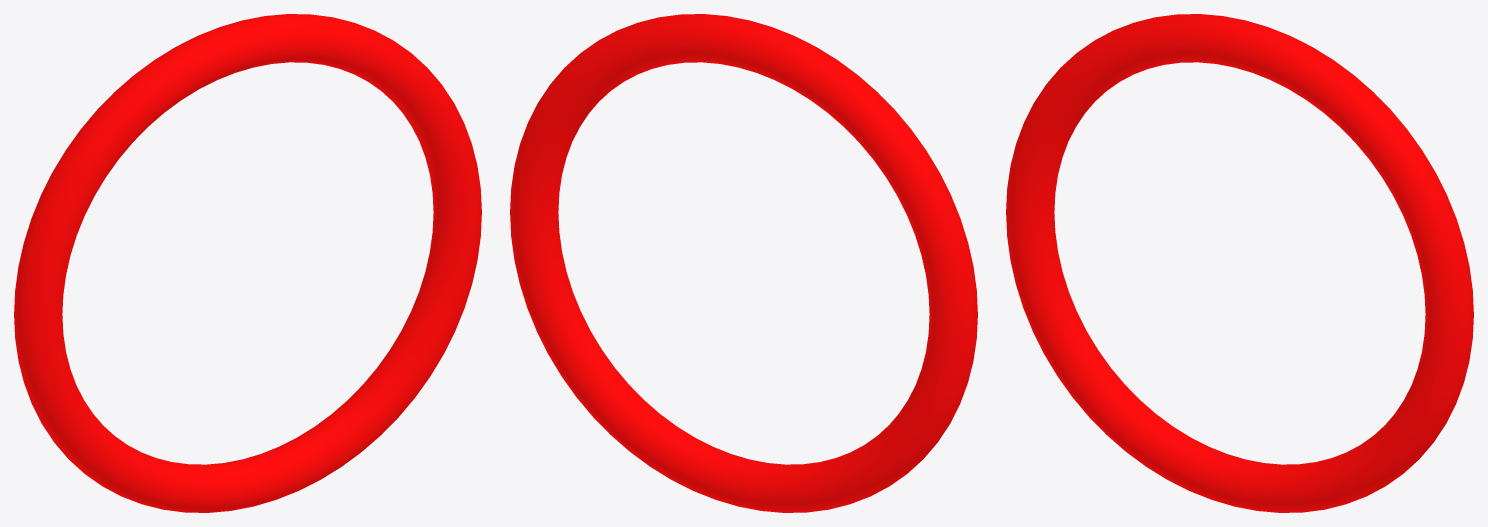
File: target.glb
3 renders of one model, left to right at view 1: azimuth 30°, elevation 25°; view 2: azimuth 150°, elevation 25°; view 3: azimuth 330°, elevation 25°, orthographic.
Bounding box in the file's own units: 0.11 × 0.11 × 0.01.
